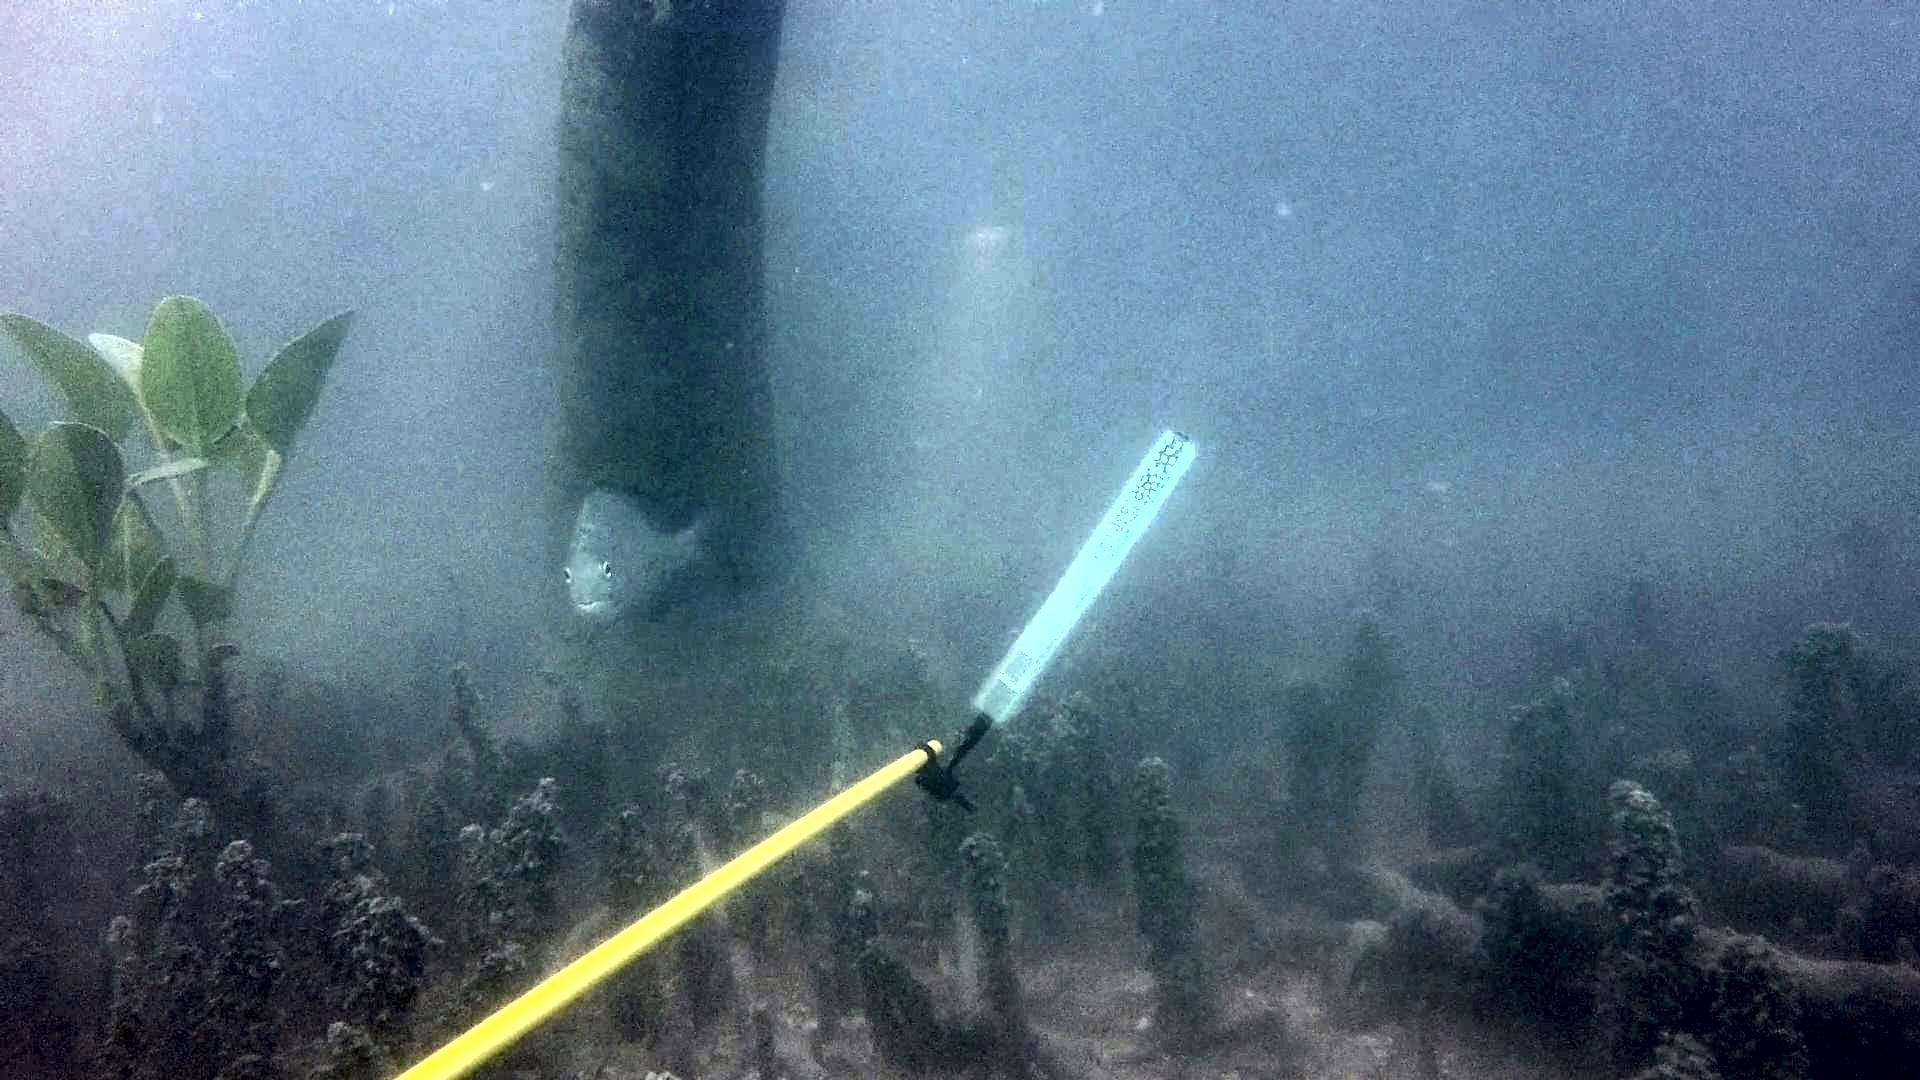acanthopagrus palmaris: (546, 460, 778, 644)
